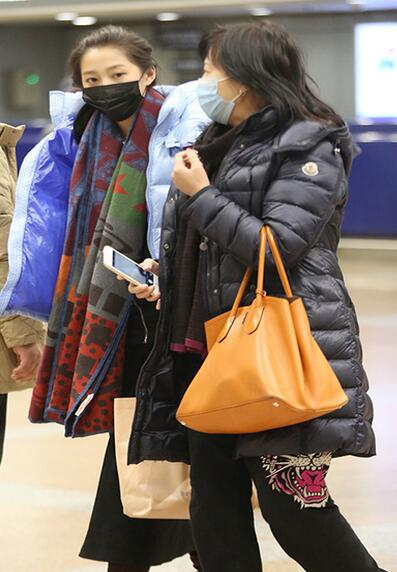OK: (80, 56, 144, 120), (196, 61, 259, 124)
